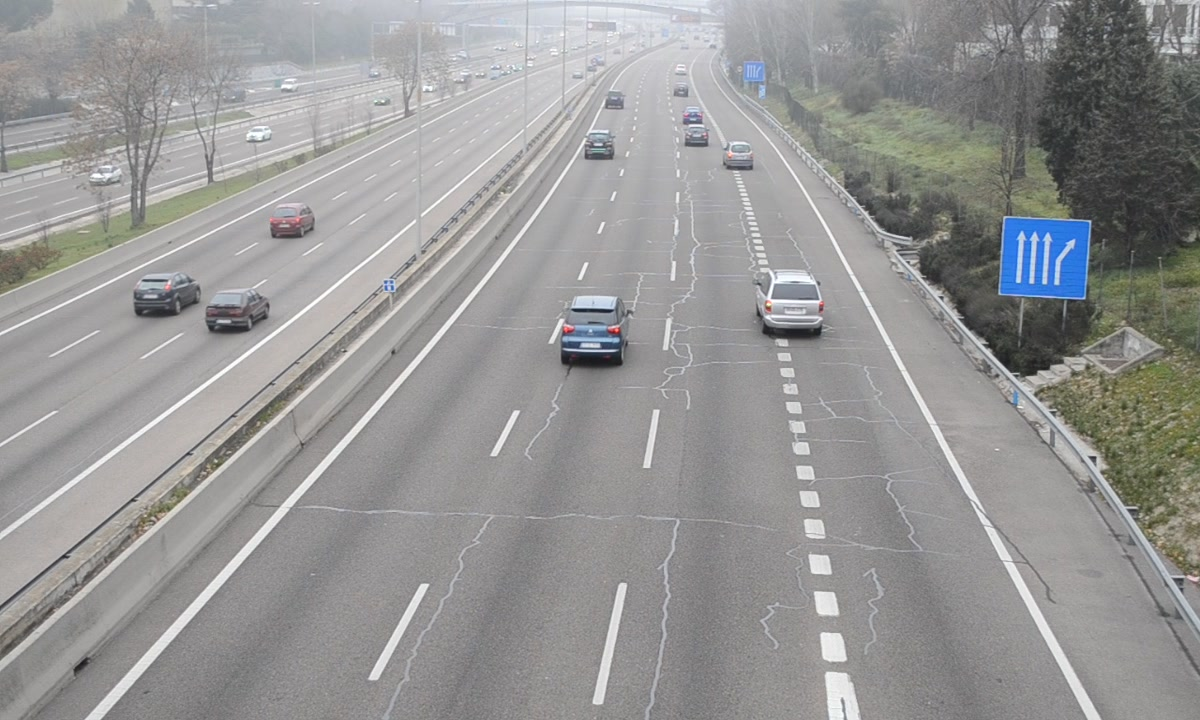car: (559, 295, 628, 362), (759, 269, 823, 331), (583, 129, 617, 160), (723, 139, 753, 170), (684, 123, 711, 147)
